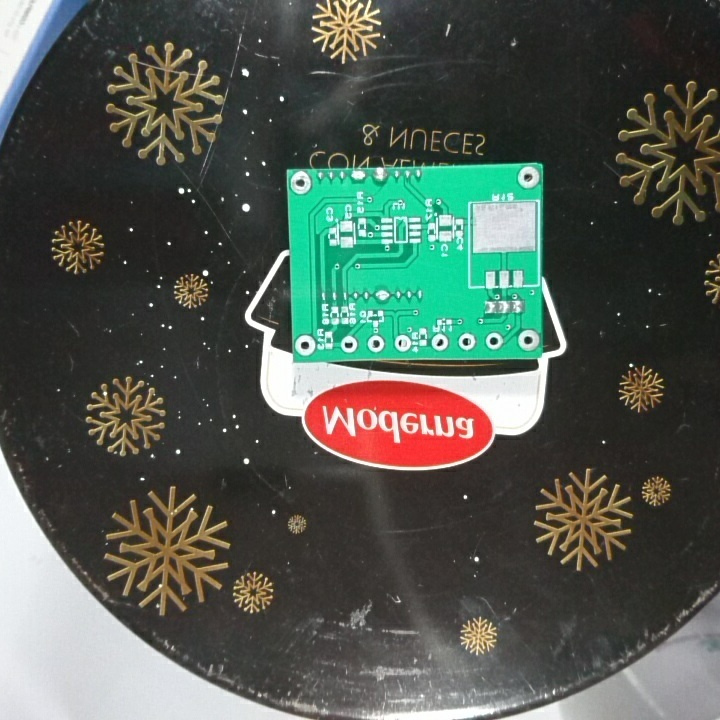F: (289, 170, 316, 198), (517, 165, 541, 192), (292, 333, 317, 358), (517, 328, 540, 351), (338, 334, 360, 355), (428, 332, 449, 352), (484, 331, 503, 352), (458, 332, 477, 352), (394, 332, 413, 352), (366, 333, 385, 353)
P: (371, 167, 390, 186), (347, 169, 368, 186), (372, 287, 388, 306)
